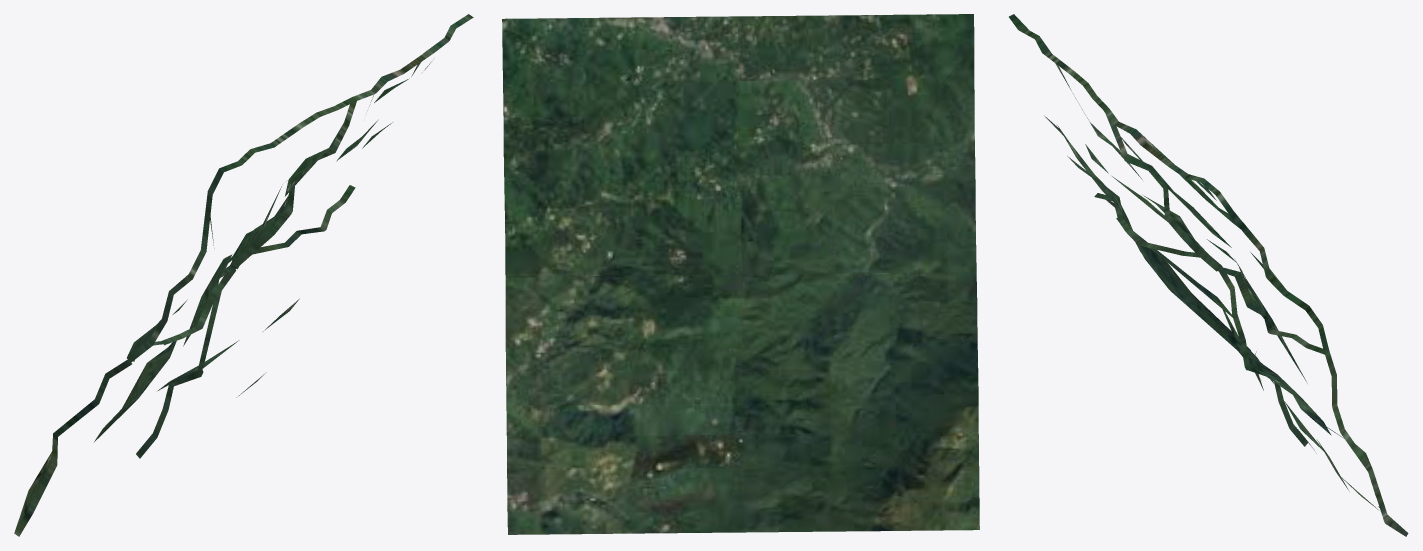
3 views of the same model, side by side, from view 1: azimuth 30°, elevation 25°; view 2: azimuth 150°, elevation 25°; view 3: azimuth 270°, elevation 25° (orthographic). The views are drawn at different scales.
Bounding box in the file's own units: 10290 × 9030 × 8075.
1 material, 1 textured.
